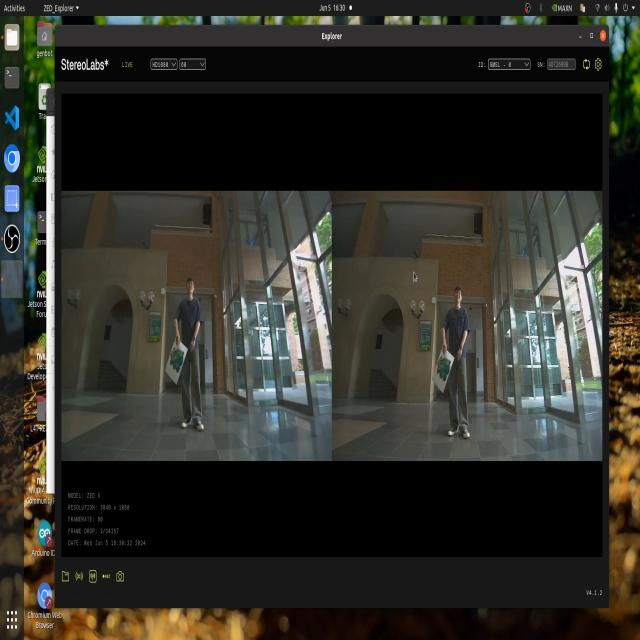green: (166, 342, 199, 380), (434, 348, 449, 386)
